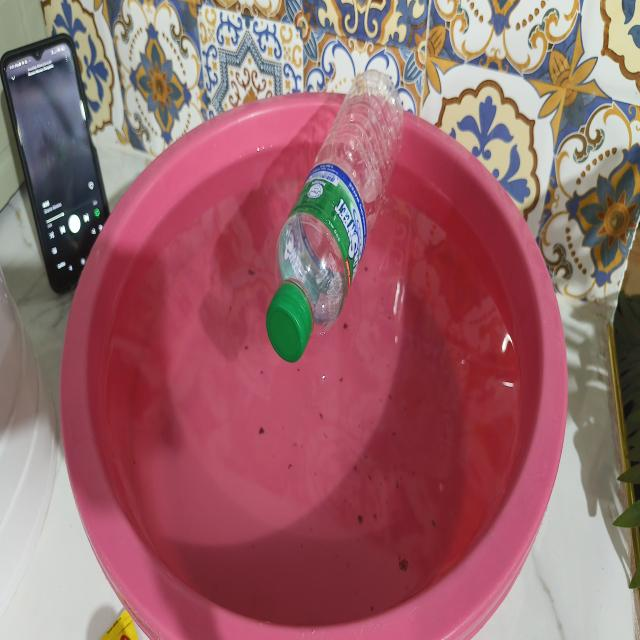Plastic Bottle: (242, 39, 430, 380)
